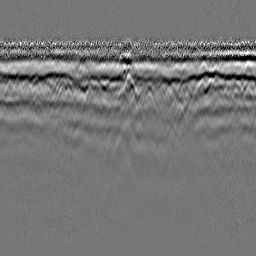cavity: (117, 71, 139, 102)
